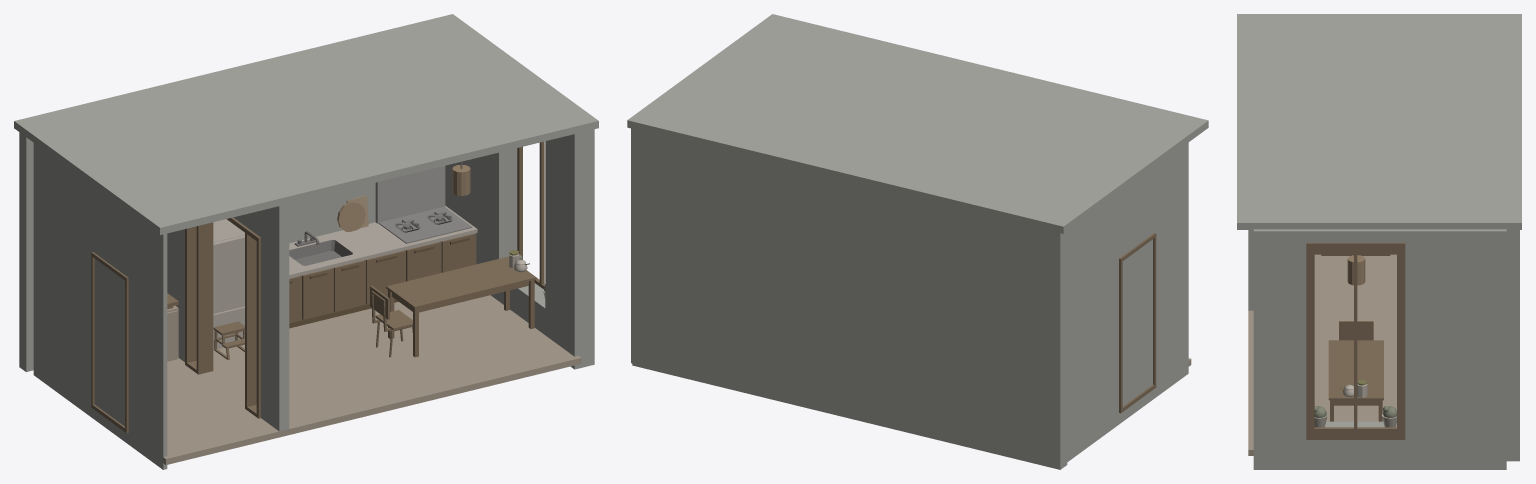
Rendered from homekitchen1.fbx.
3 views of the same model, side by side, from view 1: azimuth 30°, elevation 25°; view 2: azimuth 150°, elevation 25°; view 3: azimuth 270°, elevation 25° (orthographic). The views are drawn at different scales.
Visible parts, largest first — view 1: pPlane199, pPlane197, pPlane340, pPlane198, pCube461, pPlane388, pPlane196, polySurface358, pPlane389, pCube571, pPlane391, pCube480 (+10 smaller); view 2: pPlane196, pPlane199, pPlane340, pPlane378; view 3: pPlane199, pPlane198, pPlane197, pPlane377, pPlane196, polySurface358, pPlane379, polySurface80, pPlane388, pCylinder154.
Boxes of the visible parts, <box> form: pPlane199: <box>14,14,598,234</box>; pPlane197: <box>163,295,581,464</box>; pPlane340: <box>33,143,167,469</box>; pPlane198: <box>445,129,594,369</box>; pCube461: <box>289,206,477,323</box>; pPlane388: <box>167,204,289,431</box>; pPlane196: <box>19,132,375,371</box>; polySurface358: <box>386,256,536,312</box>; pPlane389: <box>185,217,260,418</box>; pCube571: <box>375,166,445,223</box>; pPlane391: <box>196,222,213,373</box>; pCube480: <box>213,235,244,313</box>; pPlane196: <box>632,129,1067,469</box>; pPlane199: <box>627,14,1208,233</box>; pPlane340: <box>1067,142,1188,461</box>; pPlane378: <box>1119,233,1156,413</box>; pPlane199: <box>1237,14,1521,229</box>; pPlane198: <box>1253,229,1506,469</box>; pPlane197: <box>1248,254,1396,455</box>; pPlane377: <box>1306,242,1405,439</box>; pPlane196: <box>1506,230,1519,461</box>; polySurface358: <box>1328,340,1383,405</box>; pPlane379: <box>1354,242,1357,439</box>; polySurface80: <box>1339,321,1373,340</box>; pPlane388: <box>1248,230,1253,310</box>; pCylinder154: <box>1347,255,1365,285</box>.
Size of the model in its own units: 8.48 by 4.58 by 4.82.
